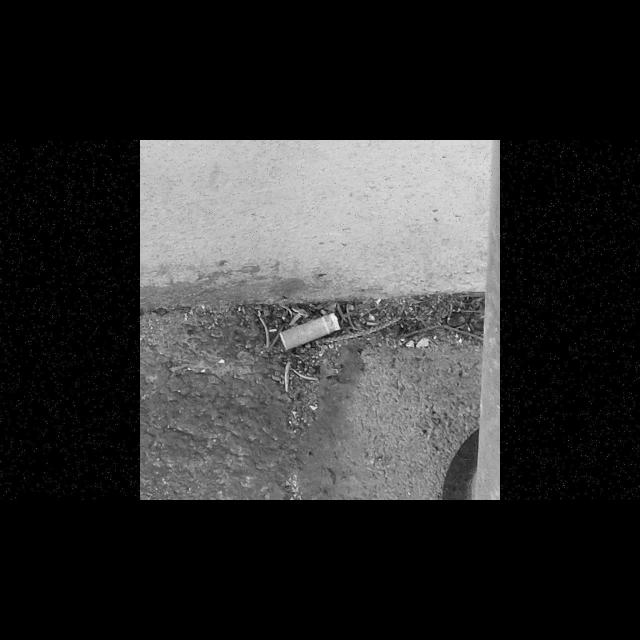cigarette: (280, 312, 342, 350)
